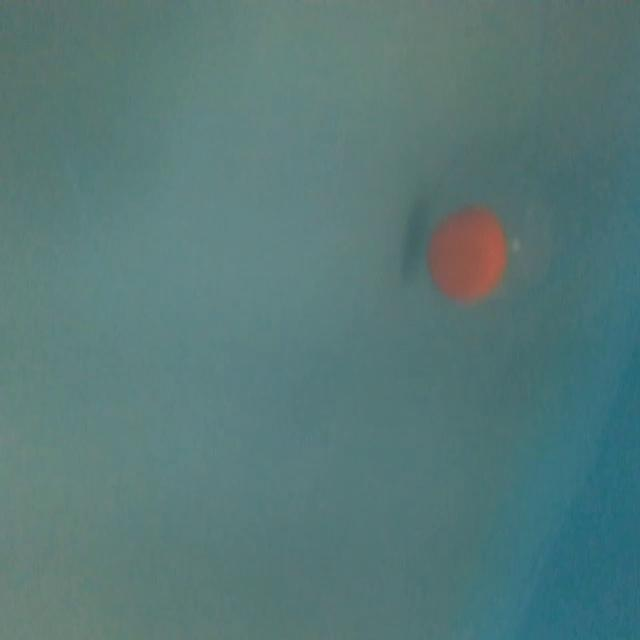plastic bottle: (410, 115, 617, 309)
